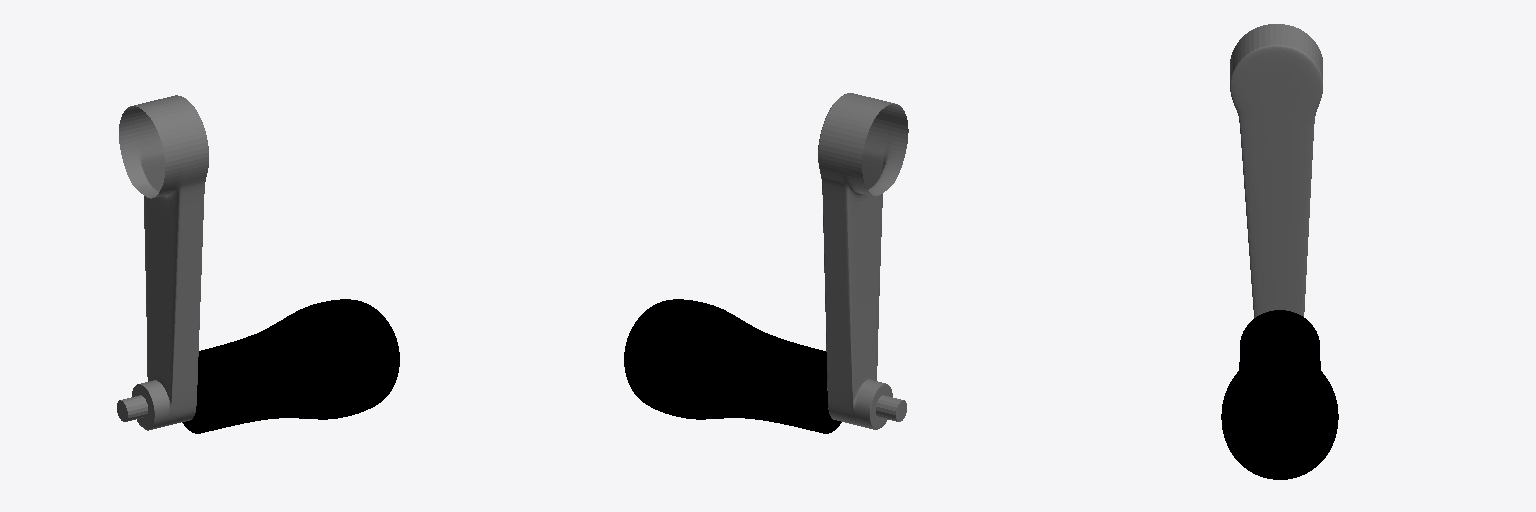
File: handle.obj
3 renders of one model, left to right at view 1: azimuth 30°, elevation 25°; view 2: azimuth 150°, elevation 25°; view 3: azimuth 270°, elevation 25°, orthographic.
Visible parts, largest first — view 1: felix.004; view 2: felix.004; view 3: felix.004.
Boxes of the visible parts, <box> form: felix.004: <box>117,95,399,433</box>; felix.004: <box>624,93,908,433</box>; felix.004: <box>1221,24,1338,479</box>.
Bounding box in the file's own units: 13.2 × 16.59 × 5.02.